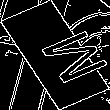M_SW: (13, 23, 97, 87)
